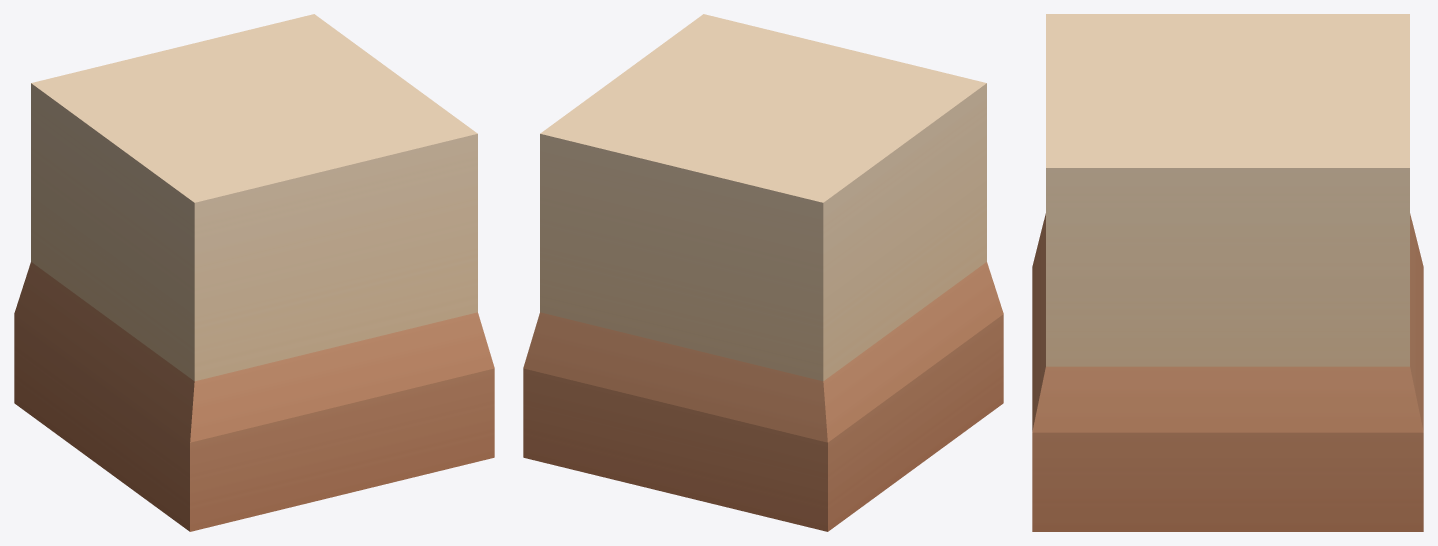
File: tower-square-base.obj
The picture shows the model from 3 angles, left to right: view 1: azimuth 30°, elevation 25°; view 2: azimuth 150°, elevation 25°; view 3: azimuth 270°, elevation 25°; orthographic projection. The views are drawn at different scales.
Parts seen in each view (by area): view 1: tower-square-base; view 2: tower-square-base; view 3: tower-square-base.
Part boxes in pixels (bbox=[...]): tower-square-base: bbox=[14, 14, 494, 531]; tower-square-base: bbox=[523, 14, 1003, 531]; tower-square-base: bbox=[1032, 14, 1423, 531].
Bounding box in the file's own units: 1 × 1.01 × 1.
Materials: 1 (1 with a texture image).
